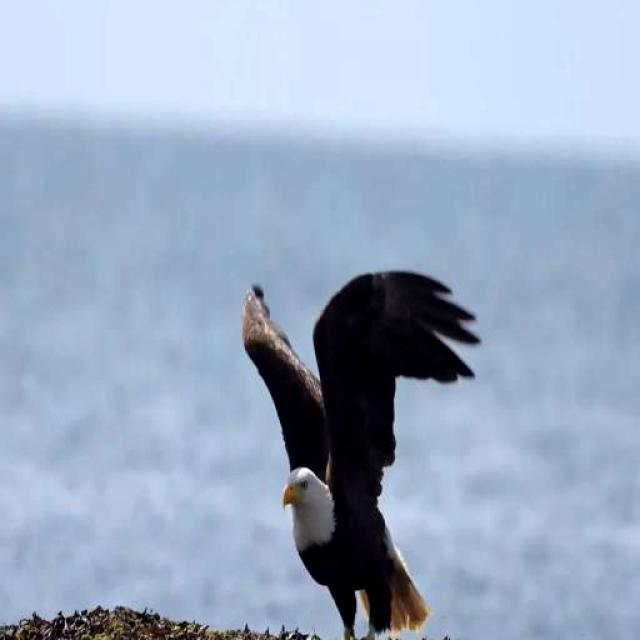airplane: (220, 229, 490, 635)
